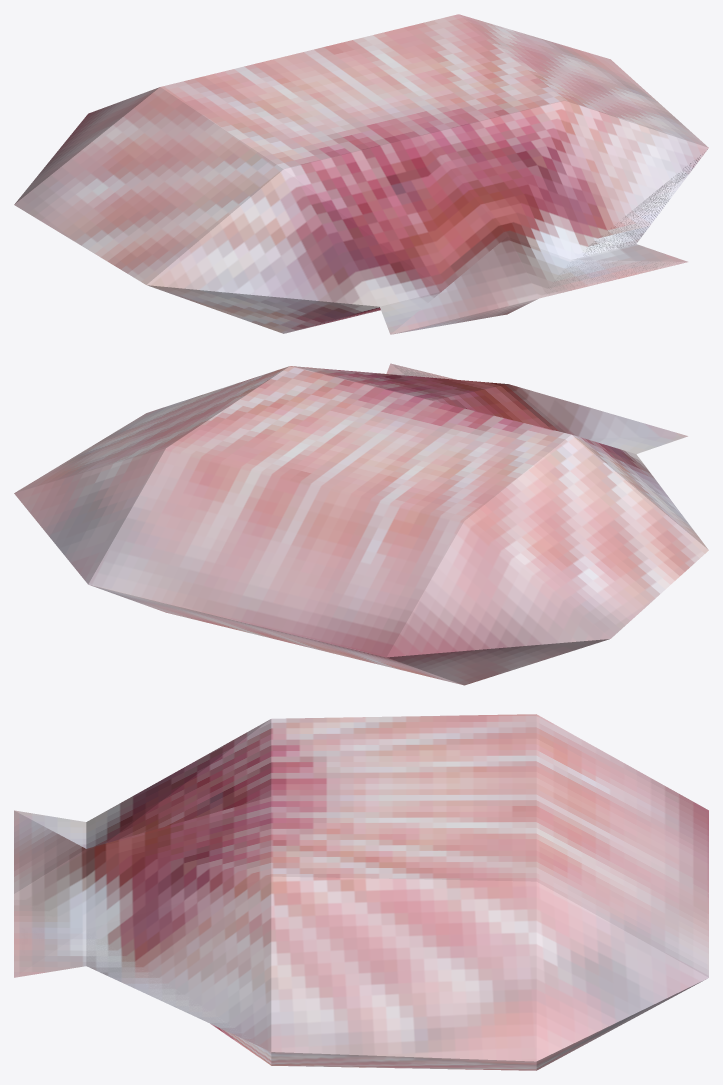
The model's file is pink_shell.glb.
3 renders of one model, top to bottom at view 1: azimuth 30°, elevation 25°; view 2: azimuth 150°, elevation 25°; view 3: azimuth 270°, elevation 25°, orthographic. The views are drawn at different scales.
Parts seen in each view (by area): view 1: Plane; view 2: Plane; view 3: Plane.
Part boxes in pixels (x1,y1,x2,y2): Plane: (14,14,708,334); Plane: (14,363,708,685); Plane: (14,714,708,1070).
Size of the model in its own units: 2.1 by 0.5526 by 1.84.
Materials: 1 (1 with a texture image).
